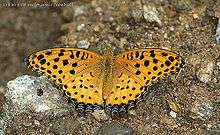Argyreus hyperbius: (21, 20, 186, 111)
butterfly: (23, 22, 188, 113)
